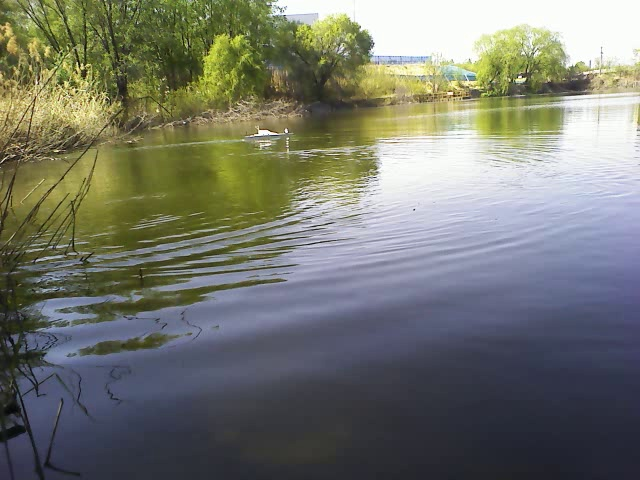boat: (244, 127, 299, 144)
